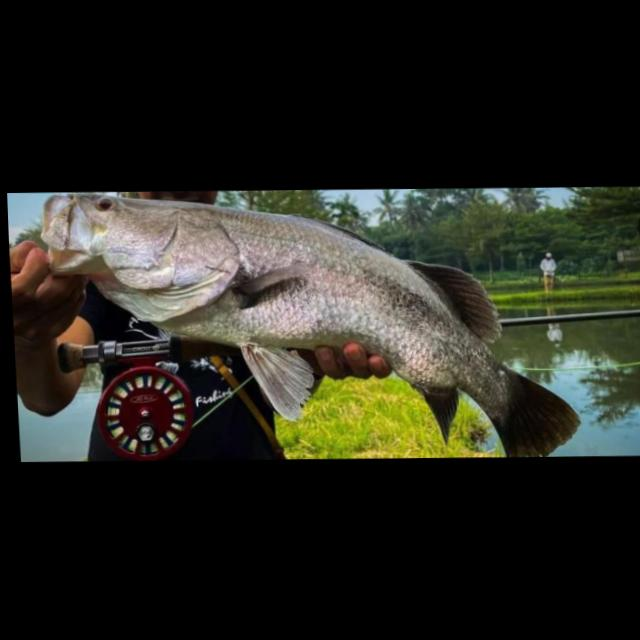Seabass: (37, 182, 581, 464)
